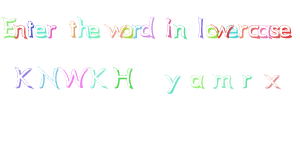E: (2, 14, 16, 42)
H: (112, 66, 138, 87)
K: (12, 63, 36, 94), (88, 63, 109, 91)
N: (36, 65, 60, 91)
W: (59, 63, 88, 90)
a: (188, 71, 209, 92), (258, 24, 271, 40)
c: (248, 24, 260, 40)
d: (141, 13, 158, 41)
e: (87, 22, 102, 42), (33, 18, 45, 40), (279, 25, 294, 39), (225, 24, 238, 40)
h: (78, 16, 89, 41)
i: (162, 17, 174, 40)
l: (195, 12, 207, 41)
m: (210, 71, 235, 93)
n: (173, 21, 189, 42), (14, 21, 27, 43)
o: (205, 23, 218, 41), (122, 23, 134, 41)
r: (238, 71, 257, 91), (47, 21, 58, 41), (237, 23, 248, 39), (132, 22, 141, 41)
s: (271, 23, 281, 40)
t: (67, 17, 77, 44), (26, 17, 36, 41)
w: (102, 19, 125, 41), (215, 22, 230, 39)
x: (261, 70, 288, 92)
y: (159, 72, 183, 95)
